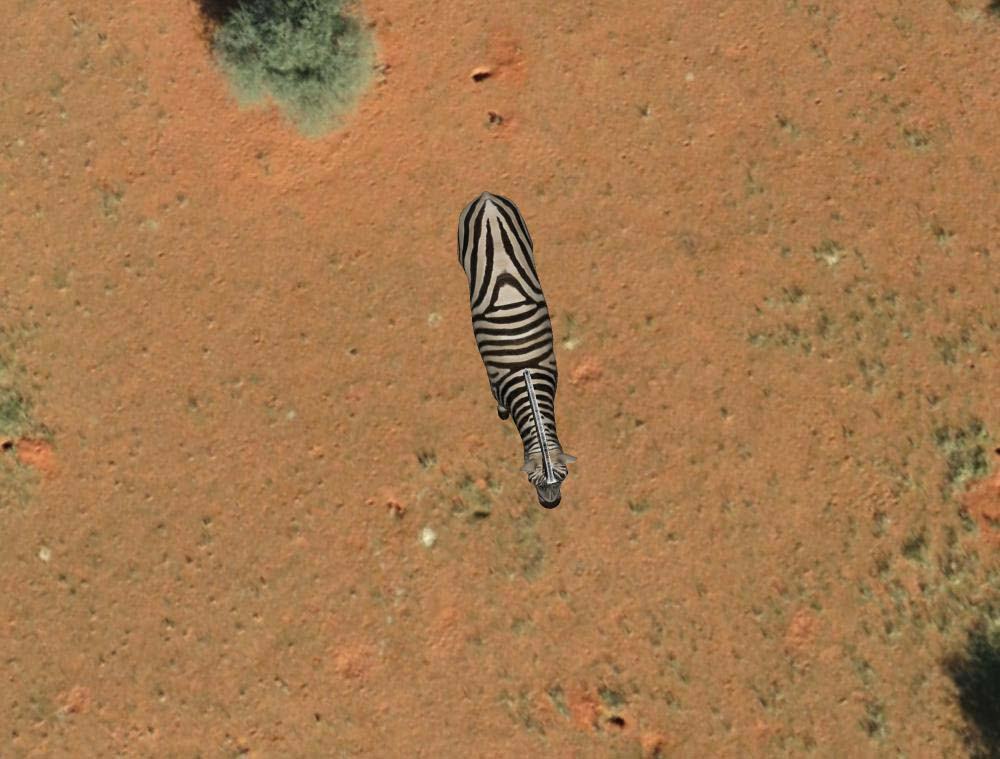zebra: (455, 185, 575, 508)
